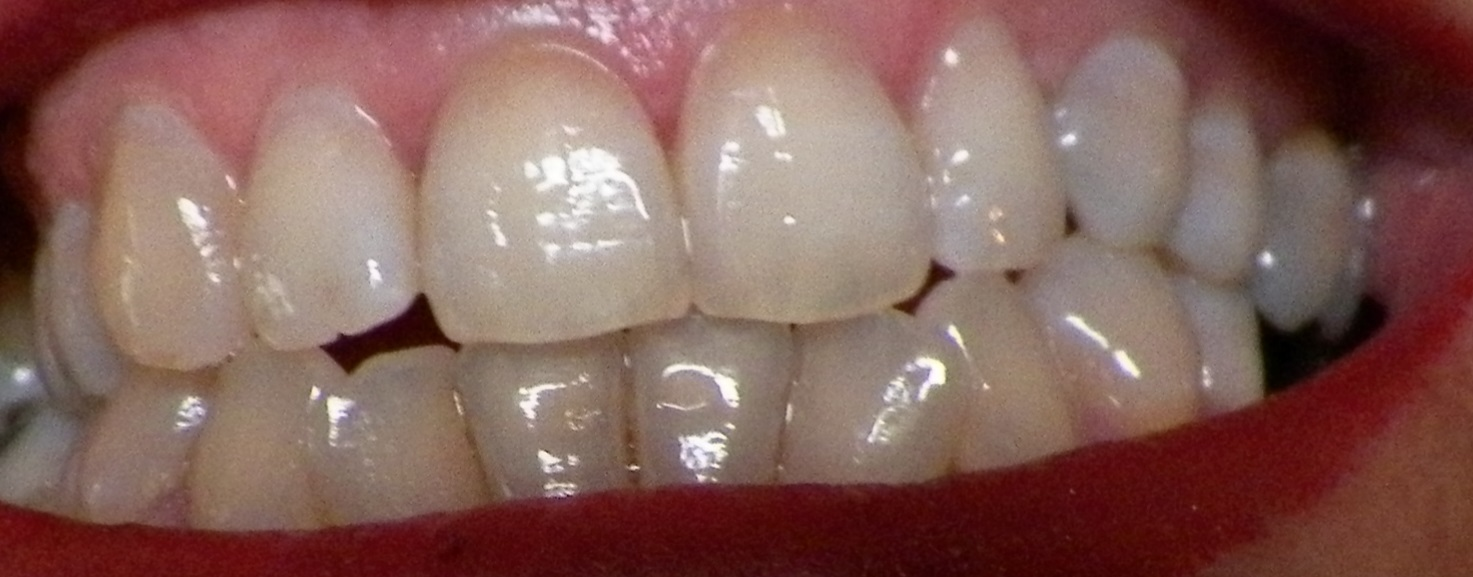boca: (1, 46, 1360, 525)
